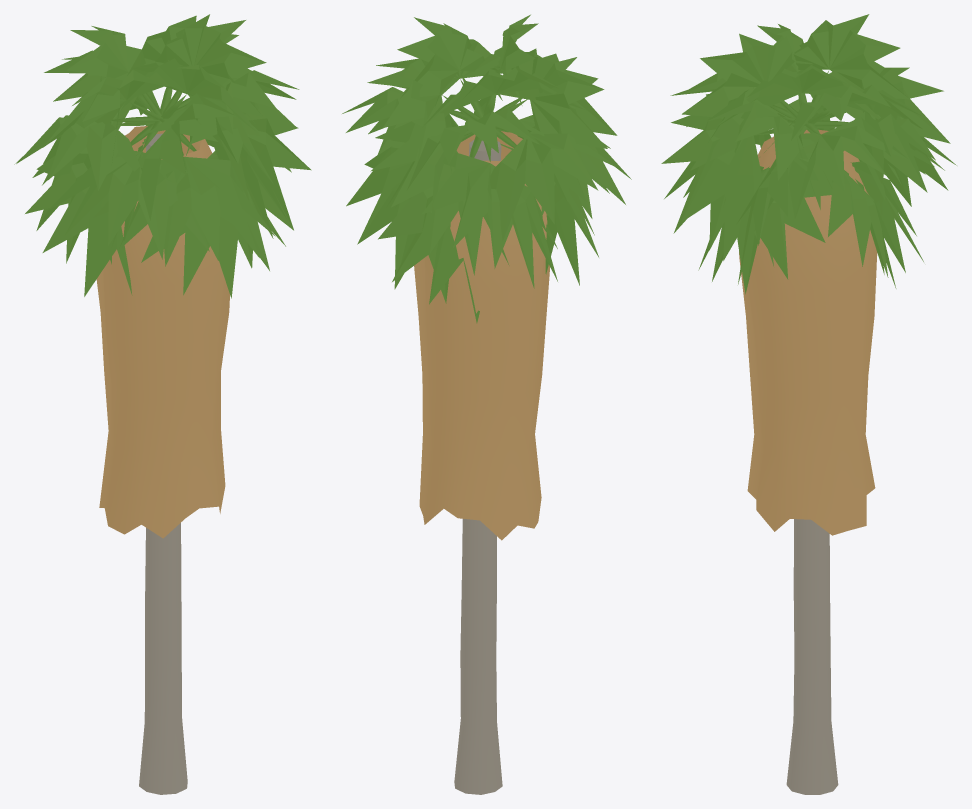
File: Blender_FanPalm_1.glb
The picture shows the model from 3 angles, left to right: view 1: azimuth 30°, elevation 25°; view 2: azimuth 150°, elevation 25°; view 3: azimuth 270°, elevation 25°; orthographic projection.
Visible parts, largest first — view 1: Blender_FanPalm_1; view 2: Blender_FanPalm_1; view 3: Blender_FanPalm_1.
Boxes of the visible parts, left/top/right/bottom form: Blender_FanPalm_1: left=14, top=14, right=311, bottom=794; Blender_FanPalm_1: left=342, top=14, right=631, bottom=794; Blender_FanPalm_1: left=661, top=14, right=956, bottom=794.
Bounding box in the file's own units: 6.79 × 18.86 × 6.82.
